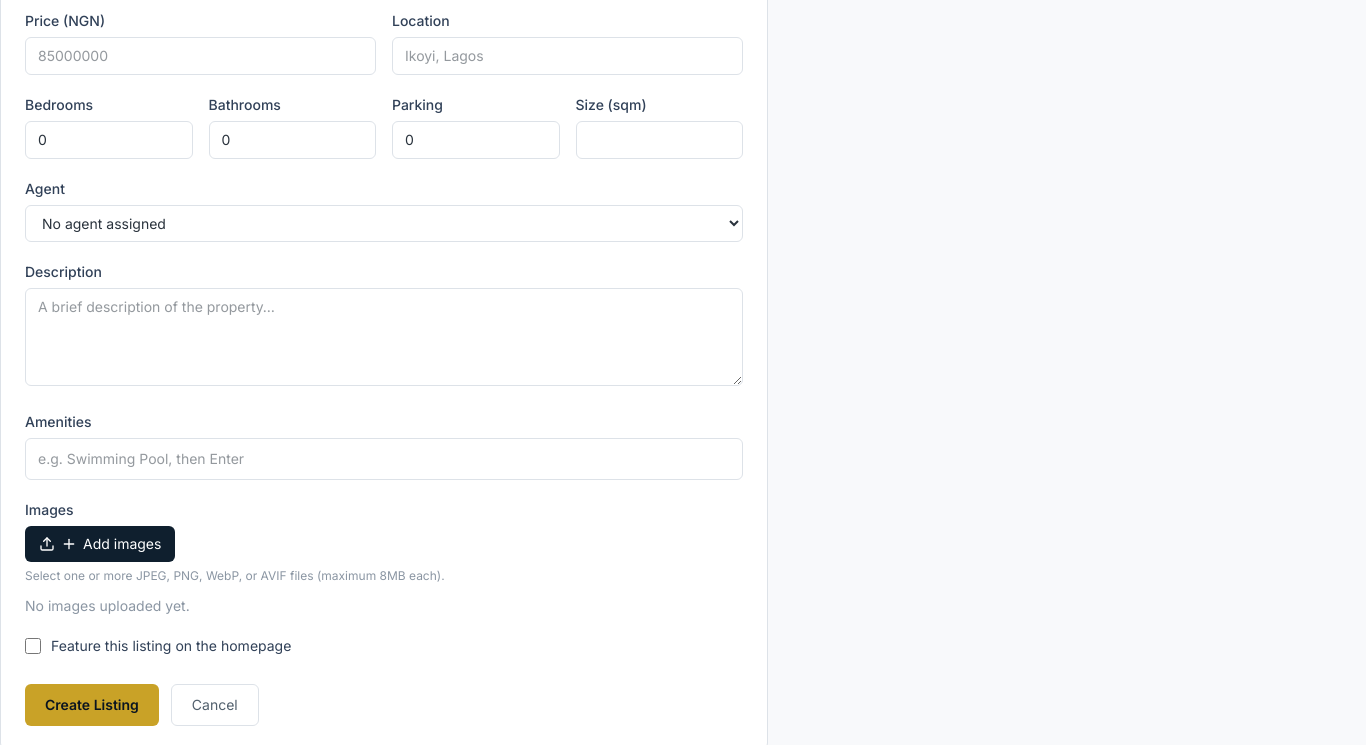
Scenario: ListingForm › shows validation errors when required fields are missing
(page scrolled)
Click the button "Create Listing".
click(92, 705)  # box [25,684,159,726]
(page scrolled)
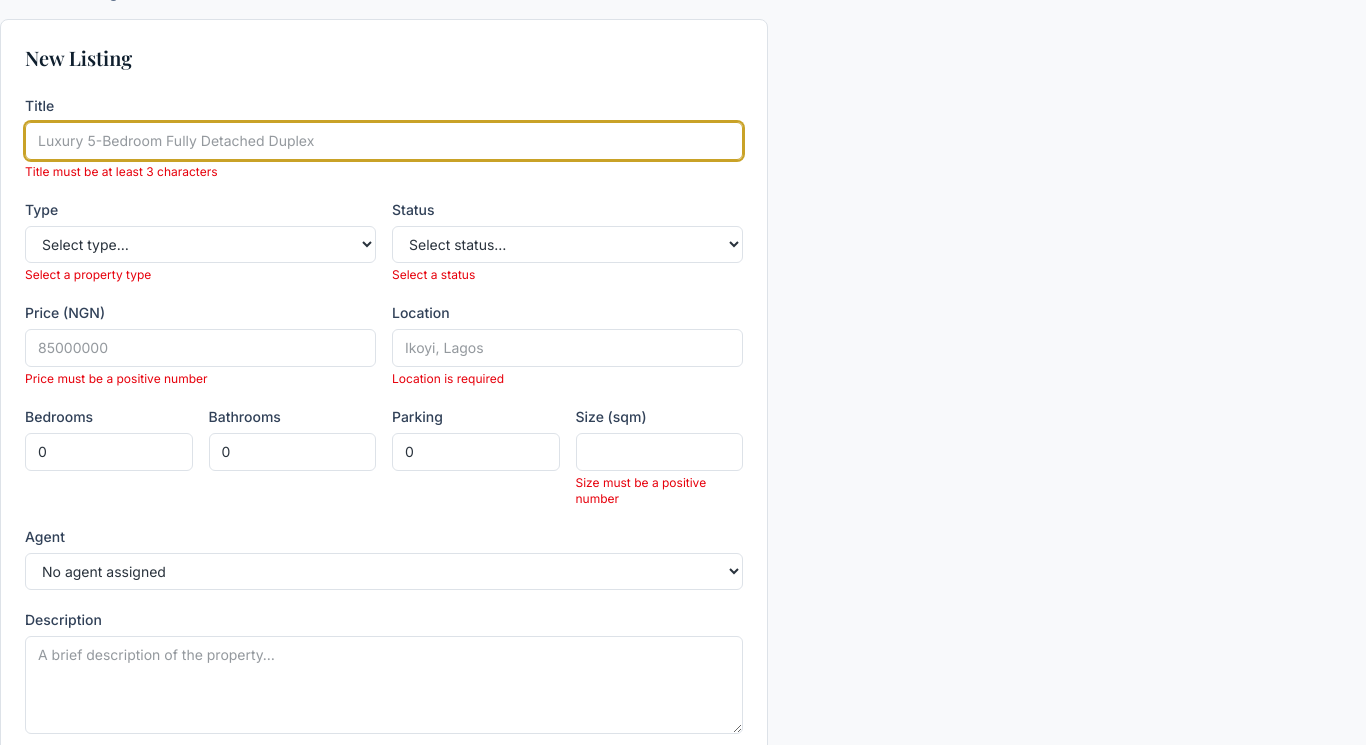
Expected: the text "Title must be at least 3 characters" is shown, [25,164,218,179]
Expected: the text "Location is required" is shown, [392,371,504,386]
